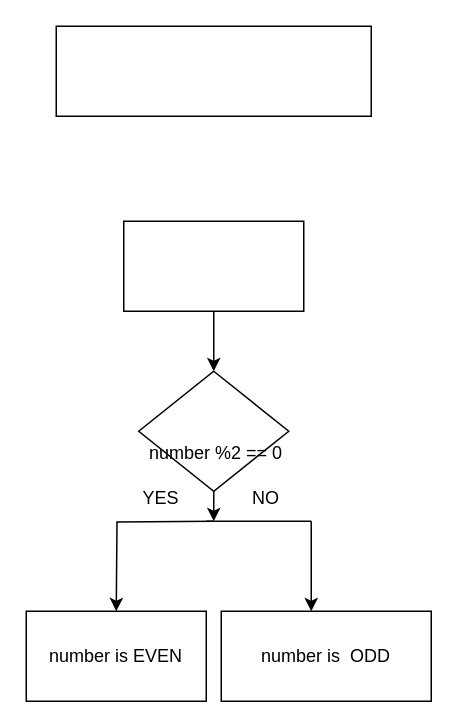
Image size: 458x728. Some labels were removed from this diagram. Here are the shapes that lost their labels. From the top down, the centre of each, then its label:
point (213, 70): Create a flowchart to determine whether a number is odd or even
point (213, 265): Set number = 87
